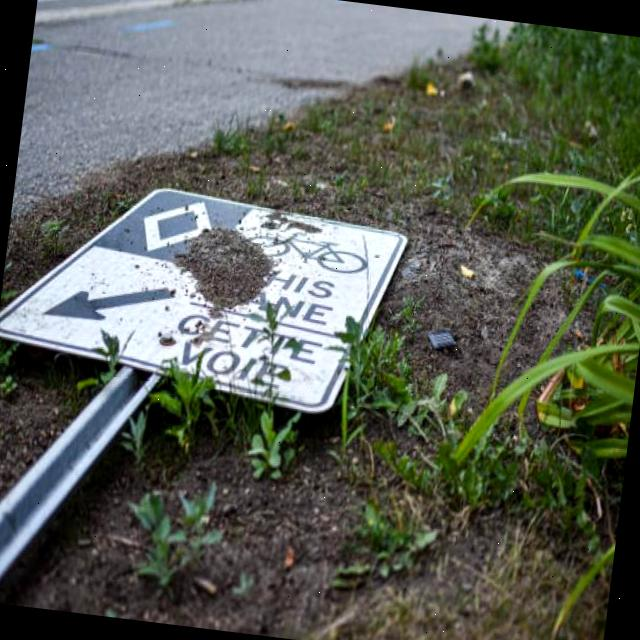Broken Pole: (0, 169, 415, 574)
